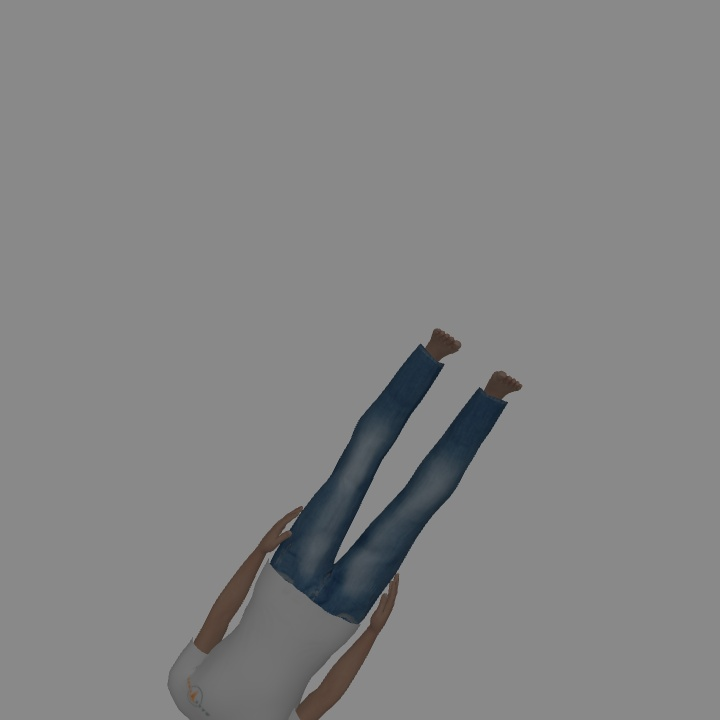victim: (171, 327, 519, 718)
